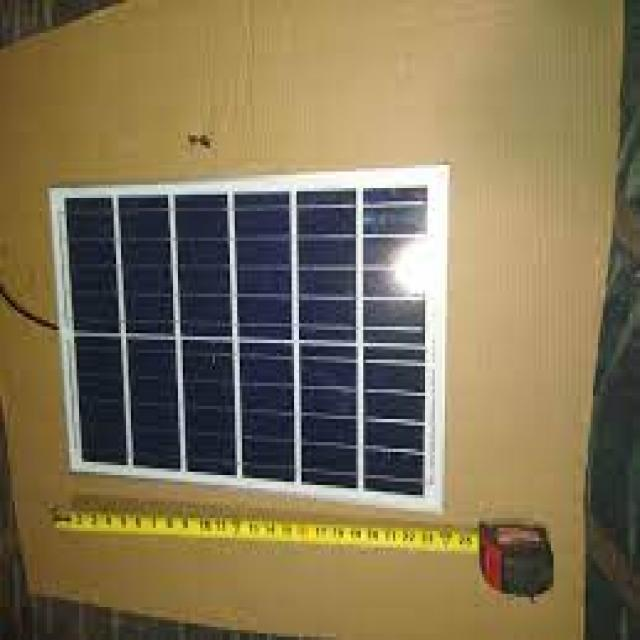no faulty: (62, 186, 448, 488)
